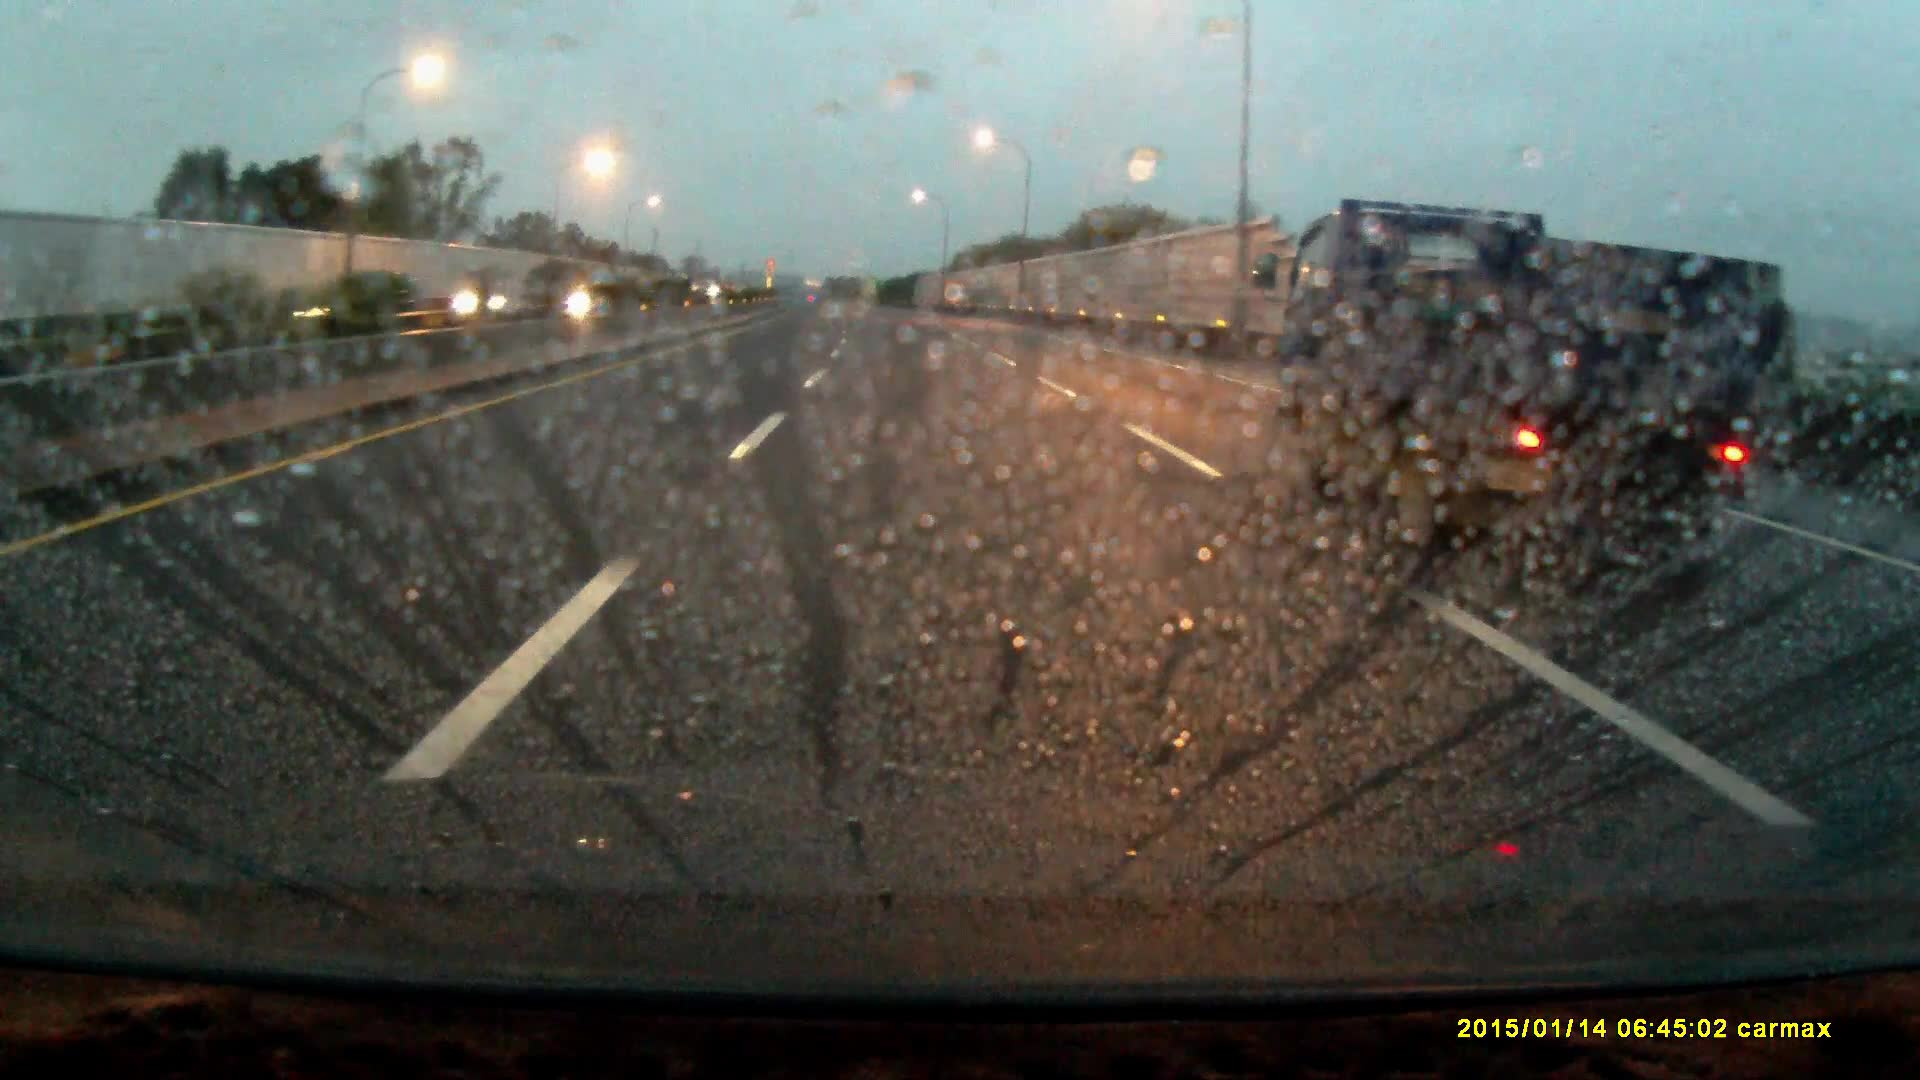vehicle: (1247, 200, 1785, 558), (276, 273, 415, 334), (541, 276, 607, 316), (460, 285, 524, 316)
